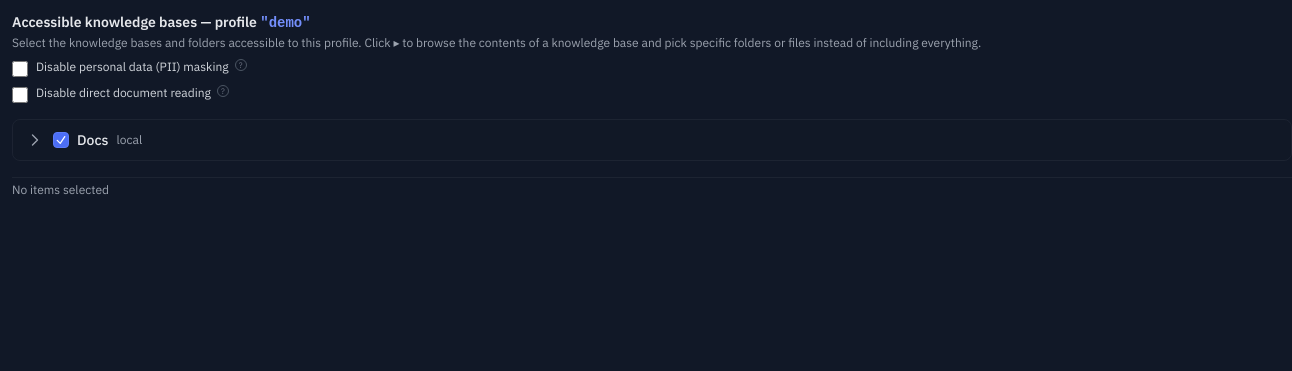
RagAccessSelector — folders loaded on demand › checking a folder selects every descendant loaded afterwards
Click the button named "Expand source" at (35, 140), box [25, 130, 45, 150]
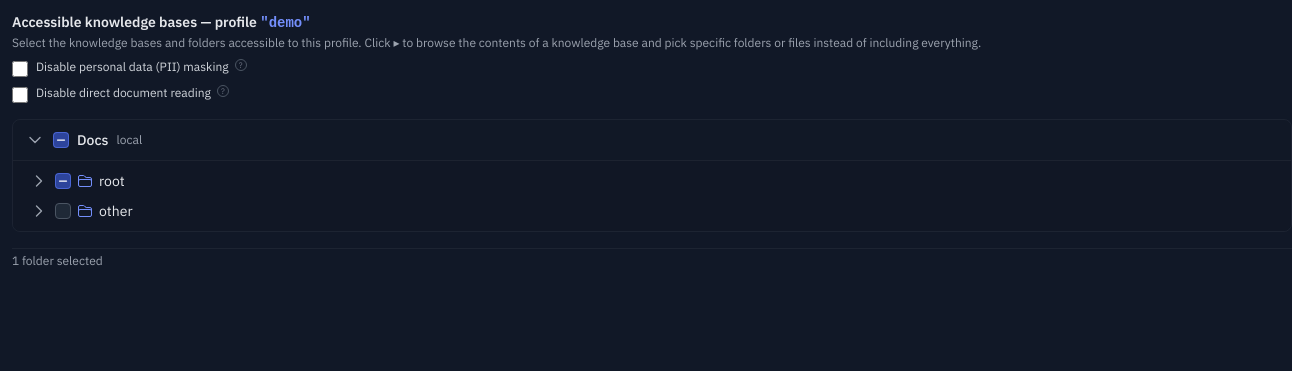
Click the checkbox named "Include folder root" at (63, 181), box [55, 173, 71, 189]
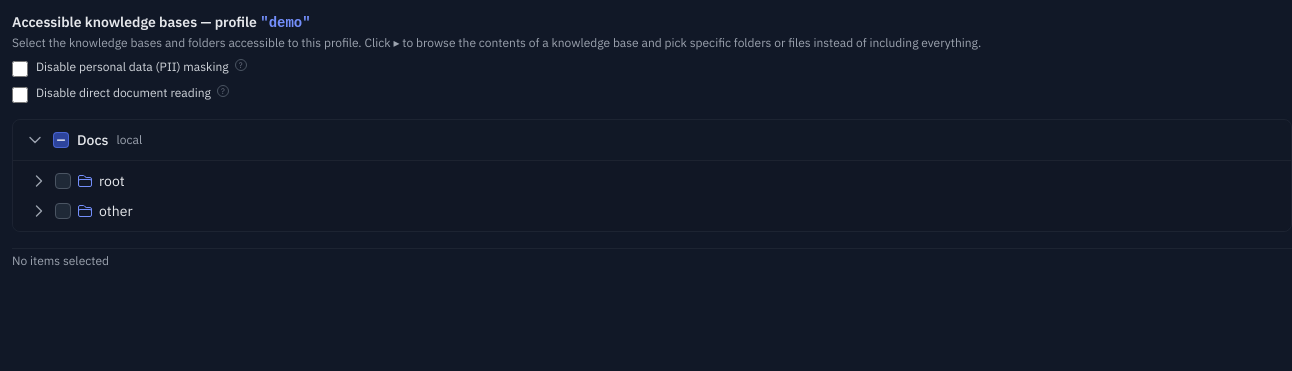
Click the checkbox named "Include folder root" at (63, 181), box [55, 173, 71, 189]
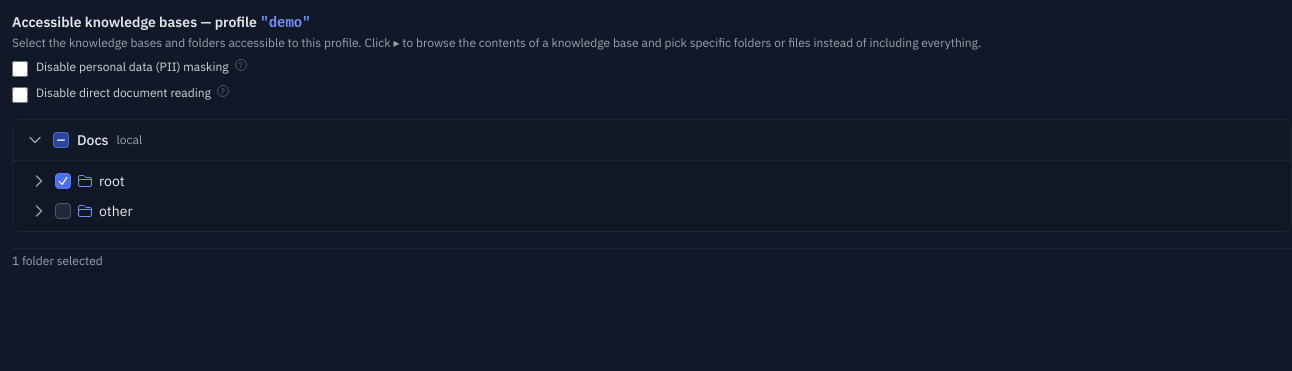
Click the 1st button named "Expand" at (39, 181), box [29, 171, 49, 191]
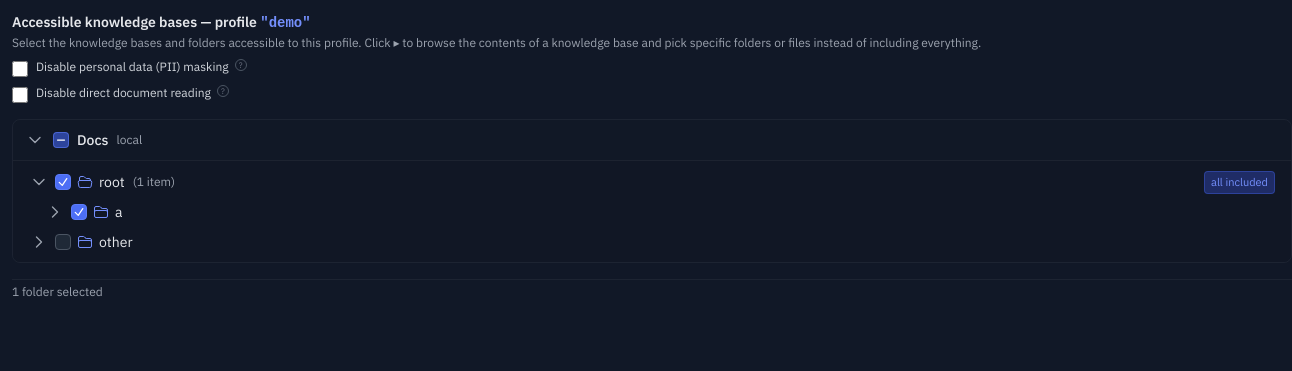
Click the 1st button named "Expand" at (55, 212), box [45, 202, 65, 222]
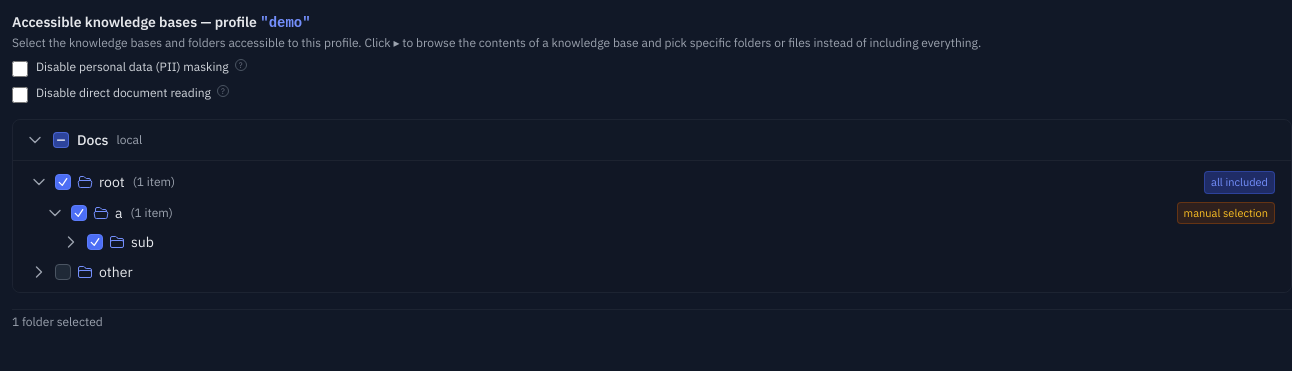
Click the 1st button named "Expand" at (71, 242), box [61, 232, 81, 252]
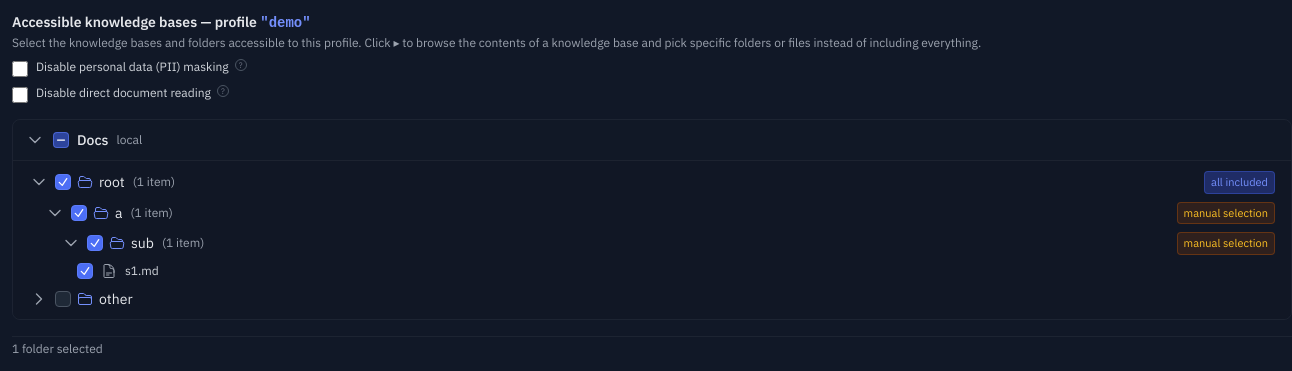
Now the text "s1.md" is shown, box [125, 262, 159, 278]
